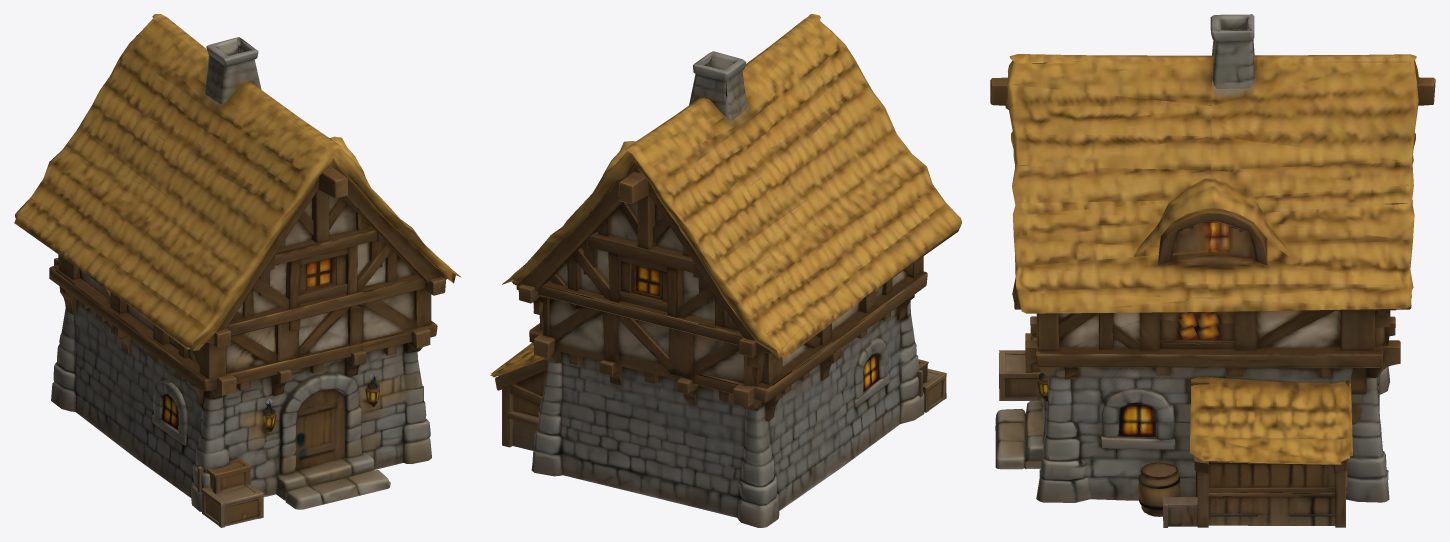
File: obj_cottage.glb
3 views of the same model, side by side, from view 1: azimuth 30°, elevation 25°; view 2: azimuth 150°, elevation 25°; view 3: azimuth 270°, elevation 25° (orthographic). The views are drawn at different scales.
Parts seen in each view (by area): view 1: geometry_0; view 2: geometry_0; view 3: geometry_0.
Boxes of the visible parts, x1,y1,x2,y2 form: geometry_0: (14,14,461,527); geometry_0: (490,14,961,527); geometry_0: (990,14,1435,527).
Bounding box in the file's own units: 0.8379 × 0.9526 × 0.918.
1 material, 1 textured.
